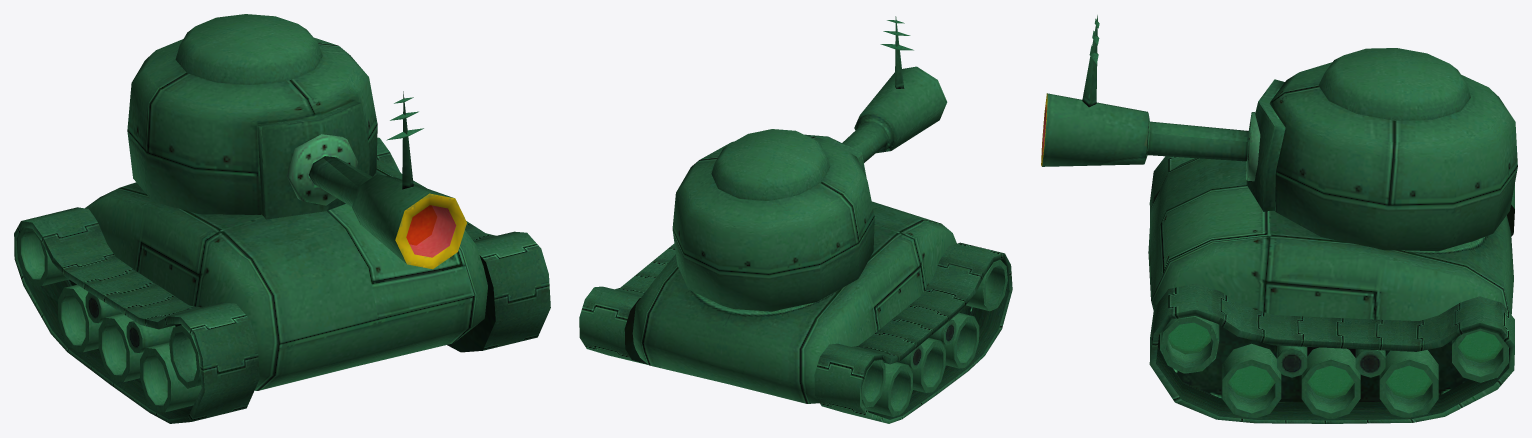
File: tank.obj
3 views of the same model, side by side, from view 1: azimuth 30°, elevation 25°; view 2: azimuth 150°, elevation 25°; view 3: azimuth 270°, elevation 25° (orthographic). The views are drawn at different scales.
Parts seen in each view (by area): view 1: MSH_Pickle_tank2; view 2: MSH_Pickle_tank2; view 3: MSH_Pickle_tank2.
Part boxes in pixels (x1,y1,x2,y2): MSH_Pickle_tank2: (14, 14, 550, 423); MSH_Pickle_tank2: (579, 16, 1012, 423); MSH_Pickle_tank2: (1041, 15, 1517, 423).
Bounding box in the file's own units: 7.12 × 6.69 × 8.81.
1 material, 1 textured.
